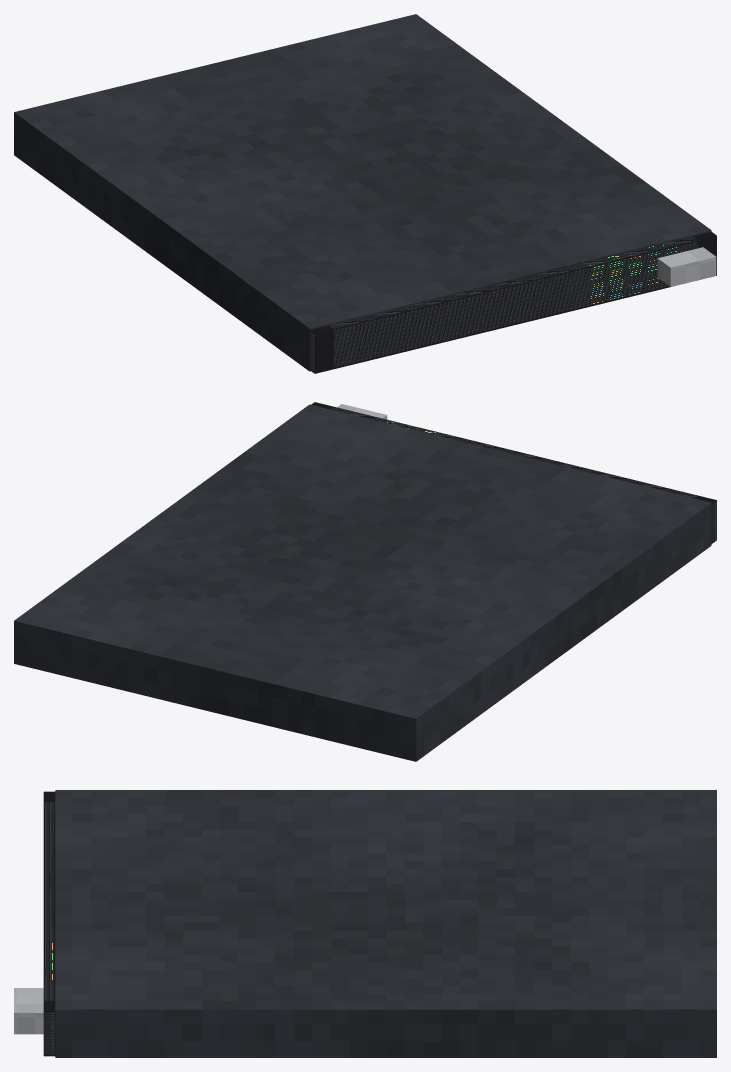
The model's file is tfg_server_blade.glb.
The picture shows the model from 3 angles, top to bottom: view 1: azimuth 30°, elevation 25°; view 2: azimuth 150°, elevation 25°; view 3: azimuth 270°, elevation 25°; orthographic projection. The views are drawn at different scales.
Parts seen in each view (by area): view 1: tfg_server_blade; view 2: tfg_server_blade; view 3: tfg_server_blade.
Boxes of the visible parts, <box> form: tfg_server_blade: <box>14,14,716,373</box>; tfg_server_blade: <box>14,402,716,761</box>; tfg_server_blade: <box>14,790,716,1057</box>.
Bounding box in the file's own units: 0.44 × 0.045 × 0.595.
3 materials, 3 textured.
